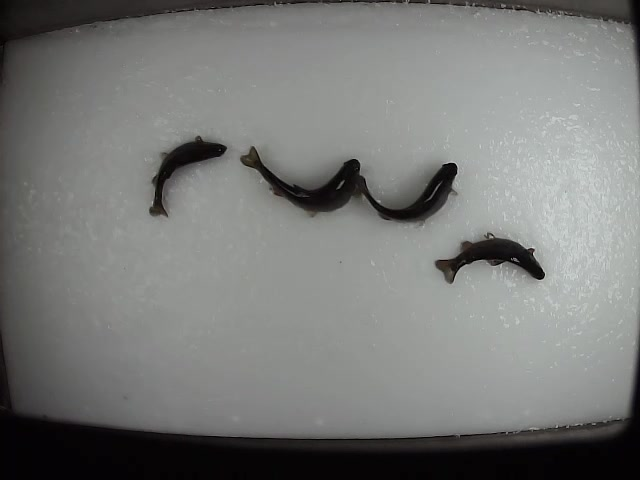fish: (238, 145, 363, 221), (144, 133, 229, 221), (358, 159, 463, 228), (433, 229, 547, 286)
